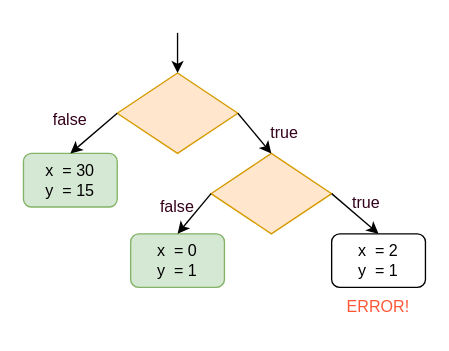
Some shapes in this 449 by 351 pixel diagram are drawn without their labels. Each missing label, with the centre of its shape:
"2*x == y" goes at pixel 177 112.
"x > y+10" goes at pixel 271 193.
